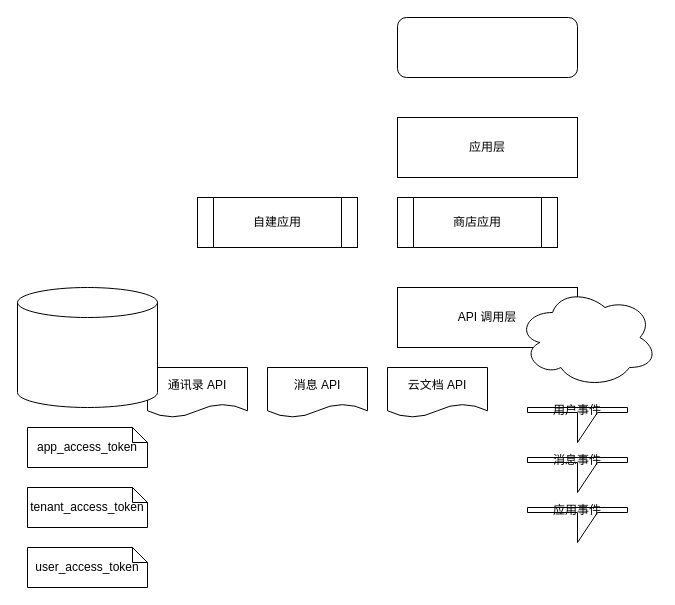
Some shapes in this 675 by 605 pixel diagram are drawn without their labels. Here are the shapes that lost their labels. From the top down, the centre of each, then its label:
At (x=487, y=47): "终端用户".
At (x=87, y=347): "认证授权".
At (x=587, y=337): "事件订阅".
